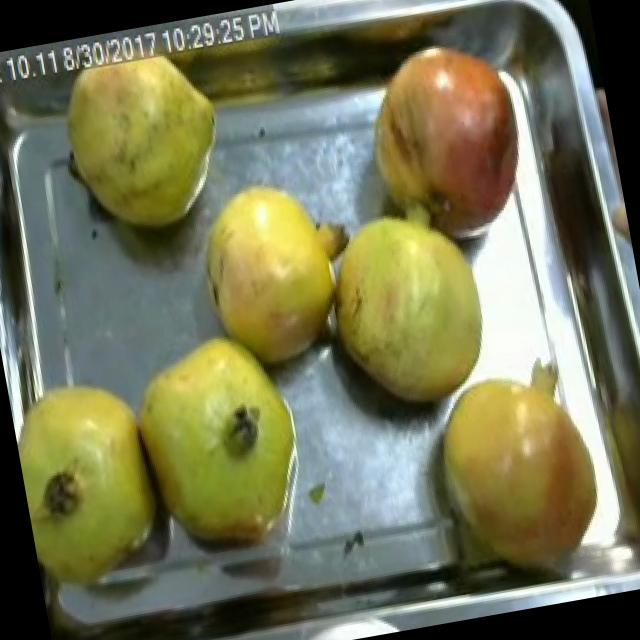fruit: (112, 305, 334, 579), (333, 3, 559, 270), (295, 170, 512, 436), (415, 344, 619, 594), (176, 151, 386, 389), (39, 19, 246, 254), (4, 350, 190, 608)
